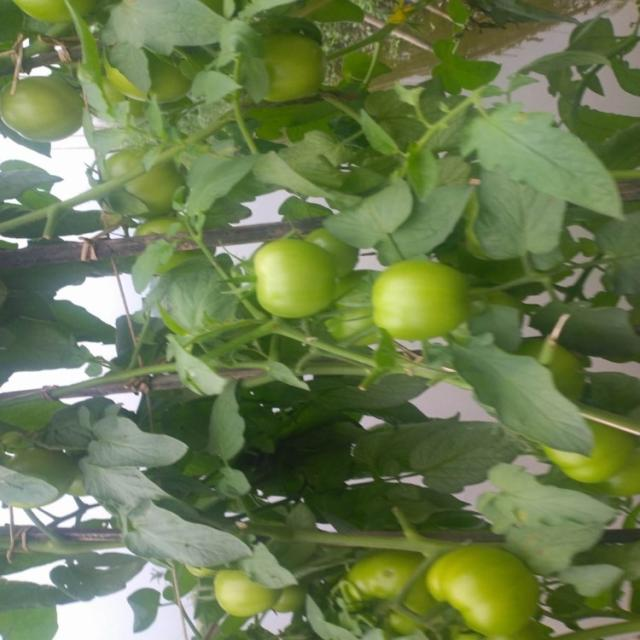tomato: (426, 543, 532, 640), (238, 239, 339, 329), (372, 264, 484, 338), (544, 408, 636, 493), (346, 548, 433, 632), (1, 72, 93, 144), (250, 31, 334, 103), (107, 147, 188, 221), (311, 218, 361, 291), (215, 563, 271, 621), (16, 1, 96, 29)
